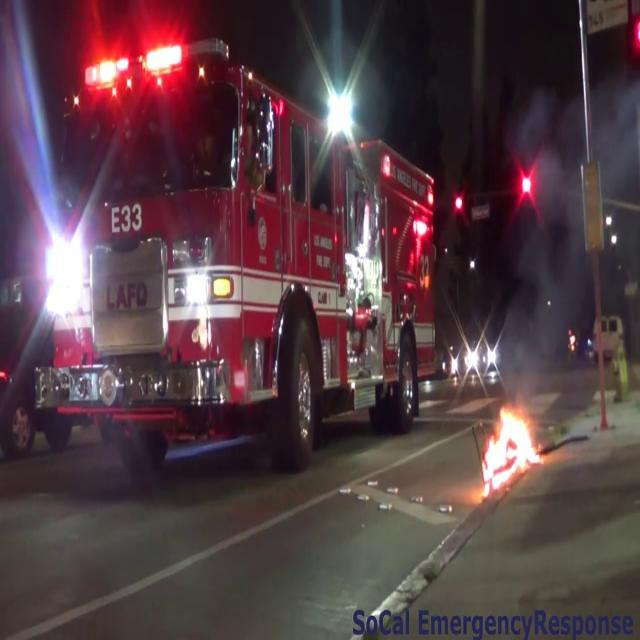Fire: (476, 400, 542, 494)
Smoke: (500, 81, 596, 392)
